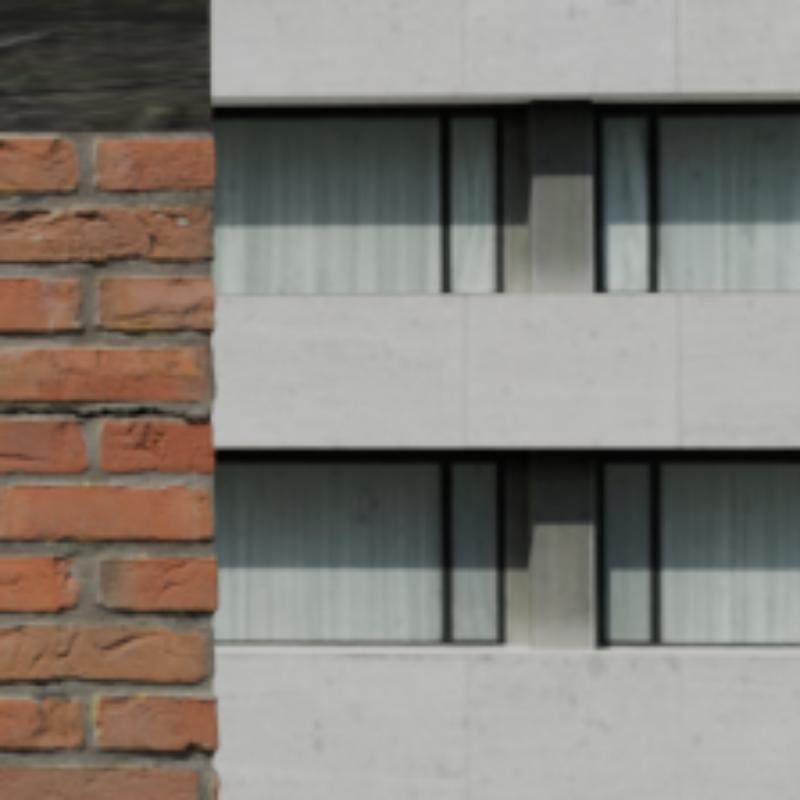pothole: (0, 407, 179, 414), (182, 415, 207, 421)
